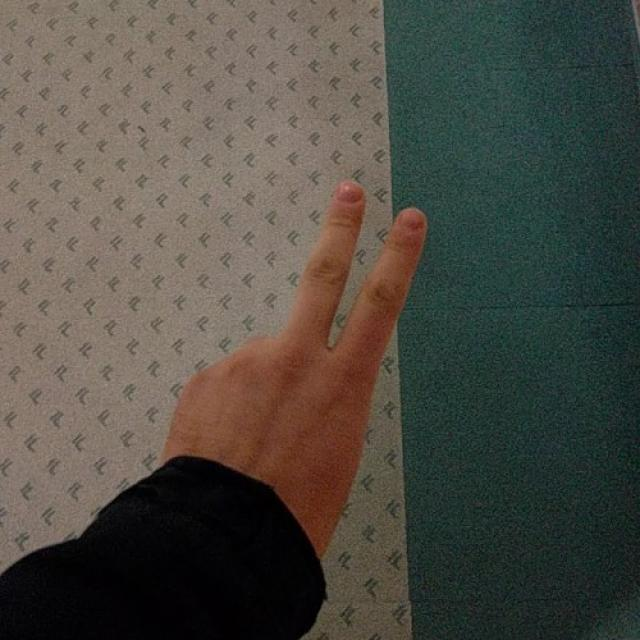scissors: (164, 177, 430, 492)
